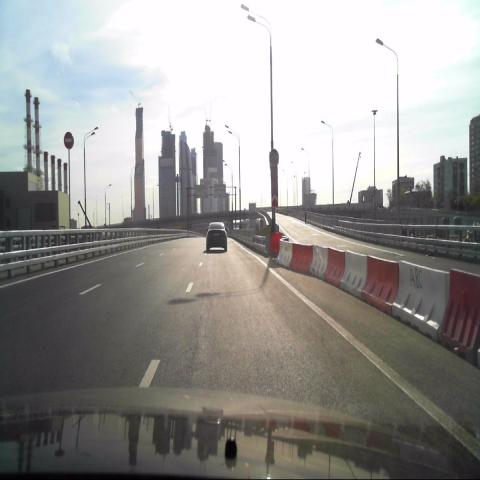3_1: (63, 130, 74, 150)
